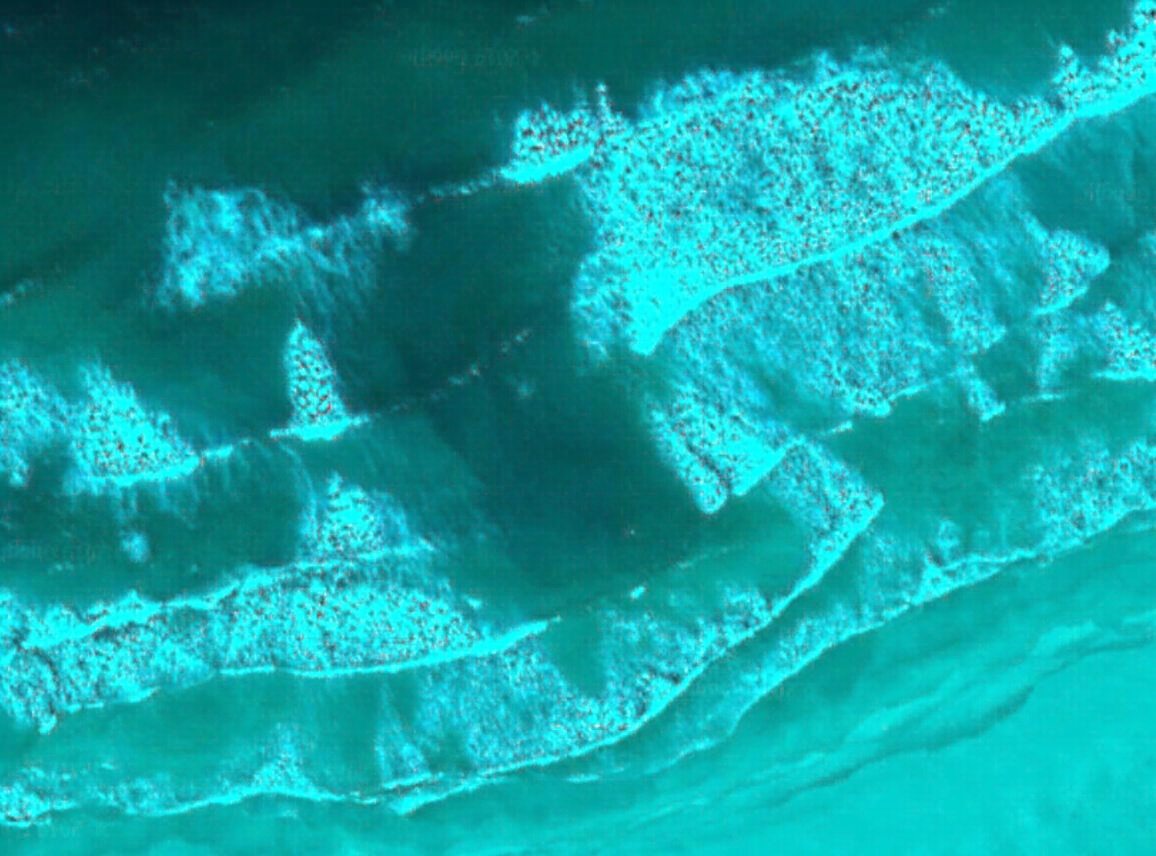rip_current: (219, 151, 772, 675)
